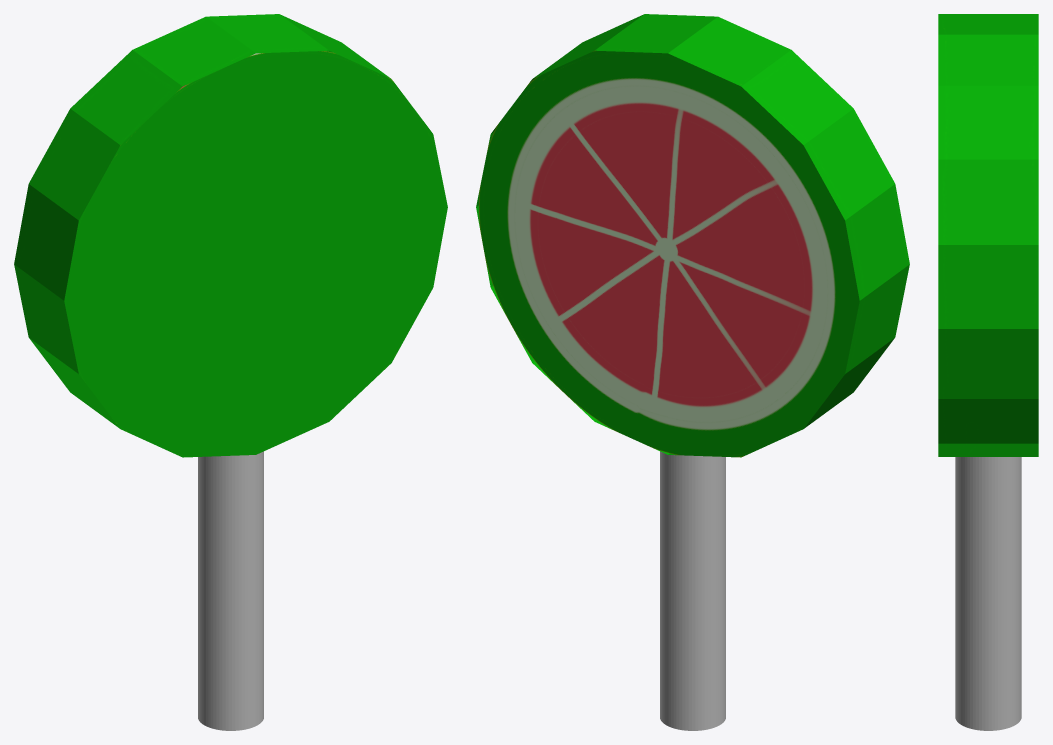
The model's file is Lollipop.fbx.
3 views of the same model, side by side, from view 1: azimuth 30°, elevation 25°; view 2: azimuth 150°, elevation 25°; view 3: azimuth 270°, elevation 25° (orthographic).
Visible parts, largest first — view 1: Lollipop, Stick; view 2: Lollipop, Stick; view 3: Lollipop, Stick.
Part boxes in pixels (x1,y1,x2,y2): Lollipop: (14, 14, 447, 457); Stick: (198, 451, 263, 730); Lollipop: (476, 14, 909, 457); Stick: (660, 451, 725, 730); Lollipop: (938, 14, 1038, 456); Stick: (955, 457, 1021, 730).
Bounding box in the file's own units: 1.91 × 3.25 × 0.4333.
